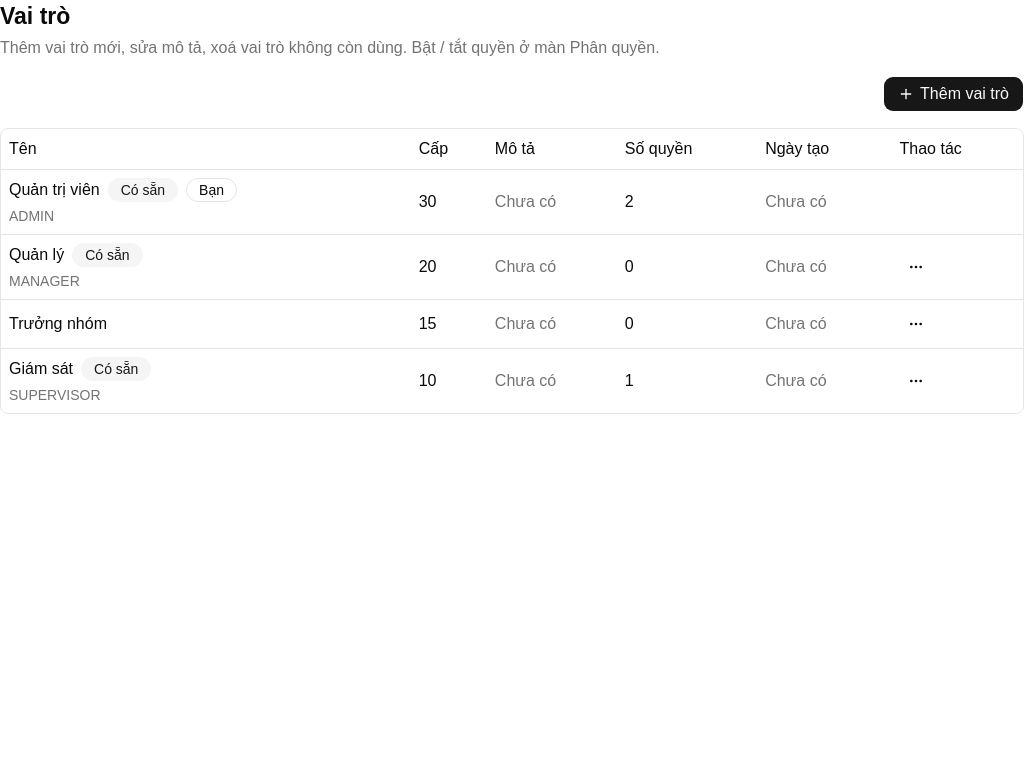
RolesPage › Sửa mô tả mở sheet của đúng vai trò; Xoá mở hộp xác nhận của đúng vai trò
Expected: the text "Trưởng nhóm" is shown, [9,312,107,336]
Click the button named "Thao tác với Trưởng nhóm" at (916, 324), box [900,308,932,340]
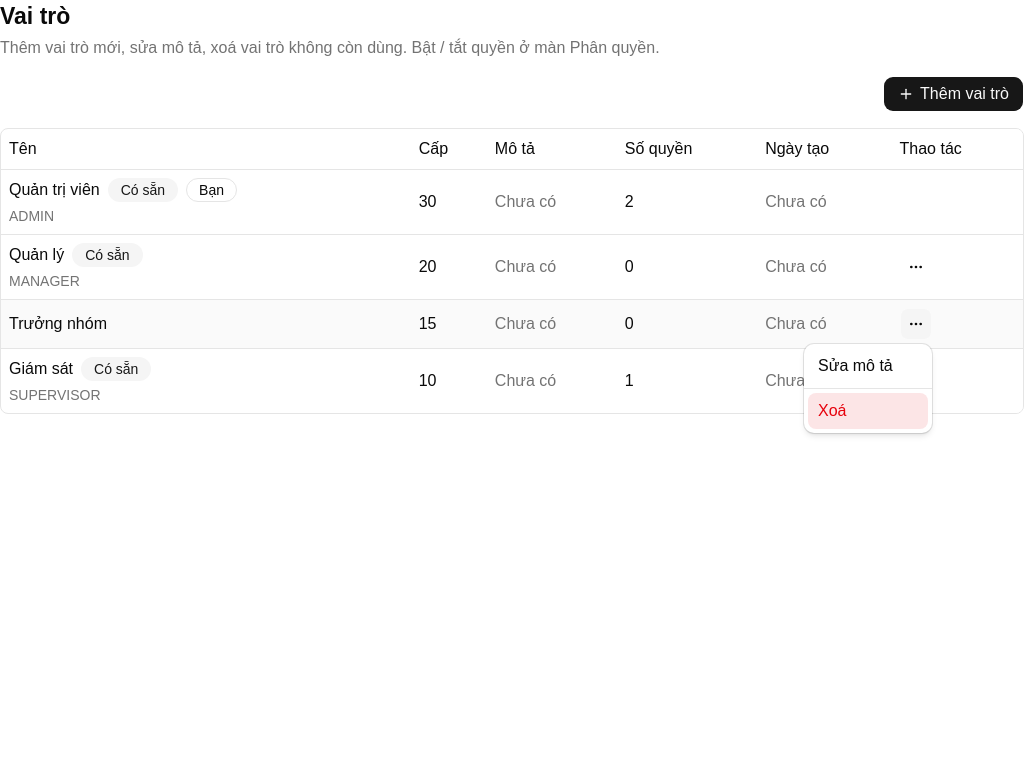
Click the menu item "Sửa mô tả" at (855, 366), box [818,357,893,374]
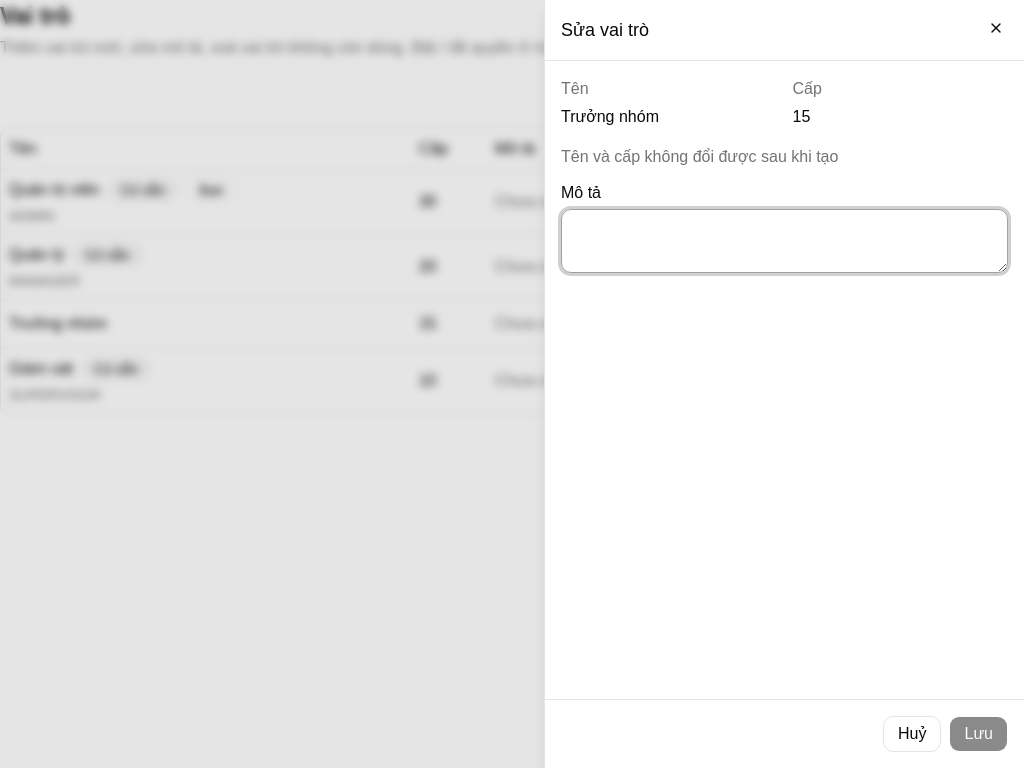
Now the text "Trưởng nhóm" is shown, box [561,108,659,125]
Press Escape
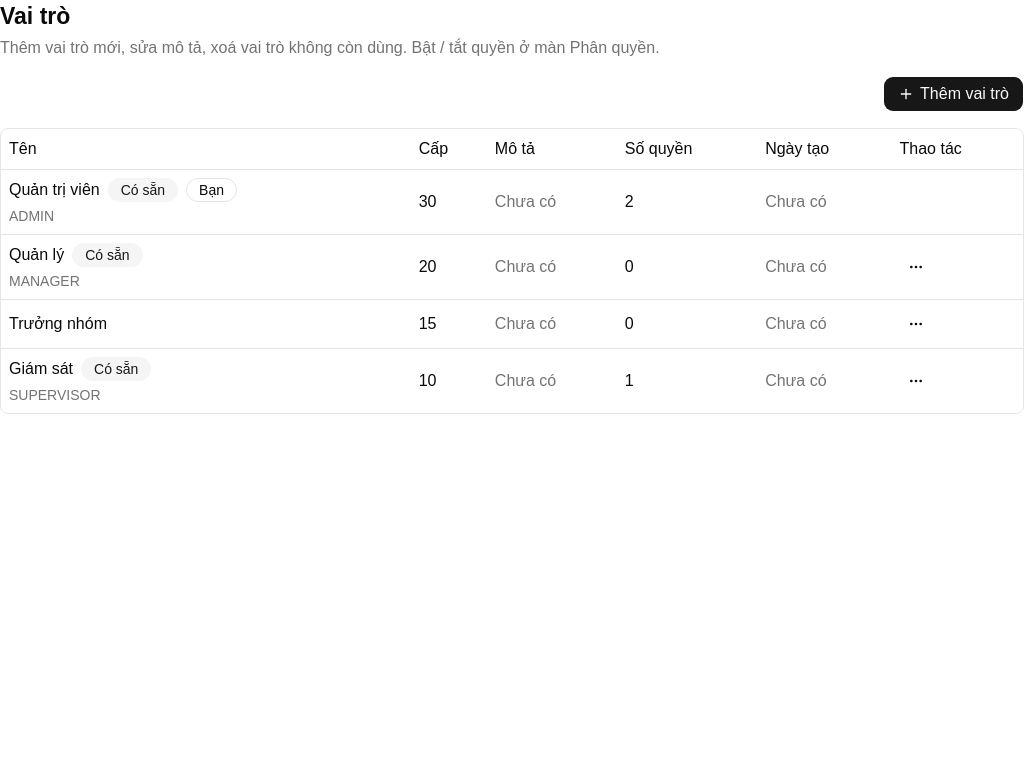
Now the dialog is gone
Click the button named "Thao tác với Trưởng nhóm" at (916, 324), box [900,308,932,340]
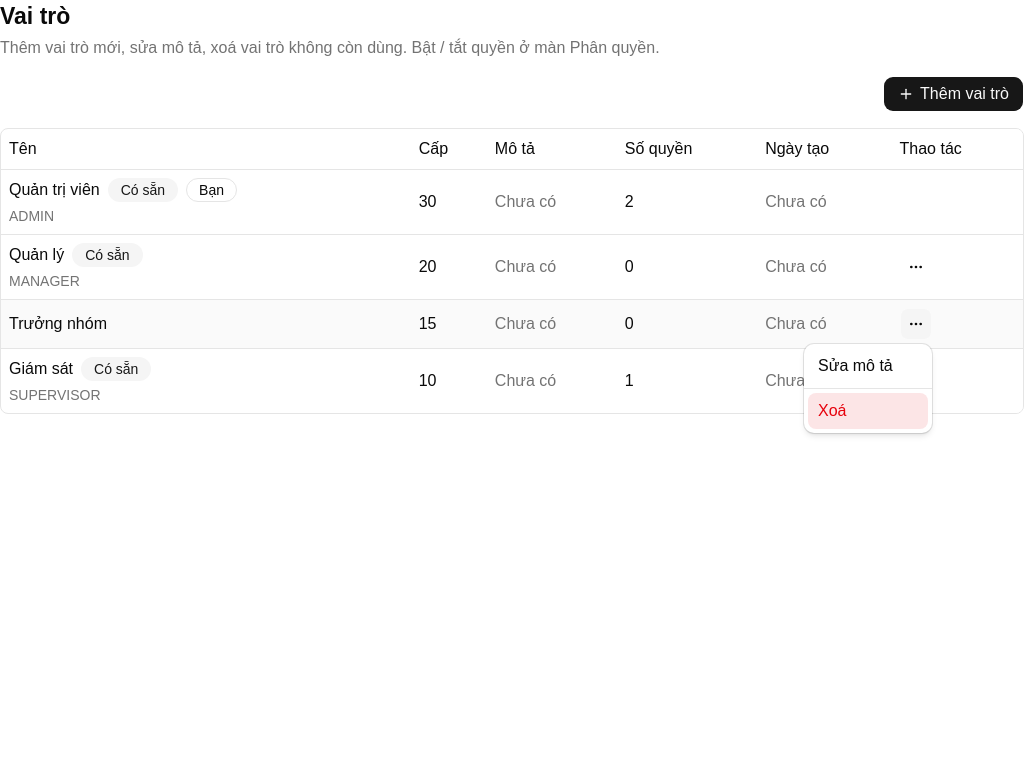
Click the menu item "Xoá" at (868, 411), box [808,393,928,429]
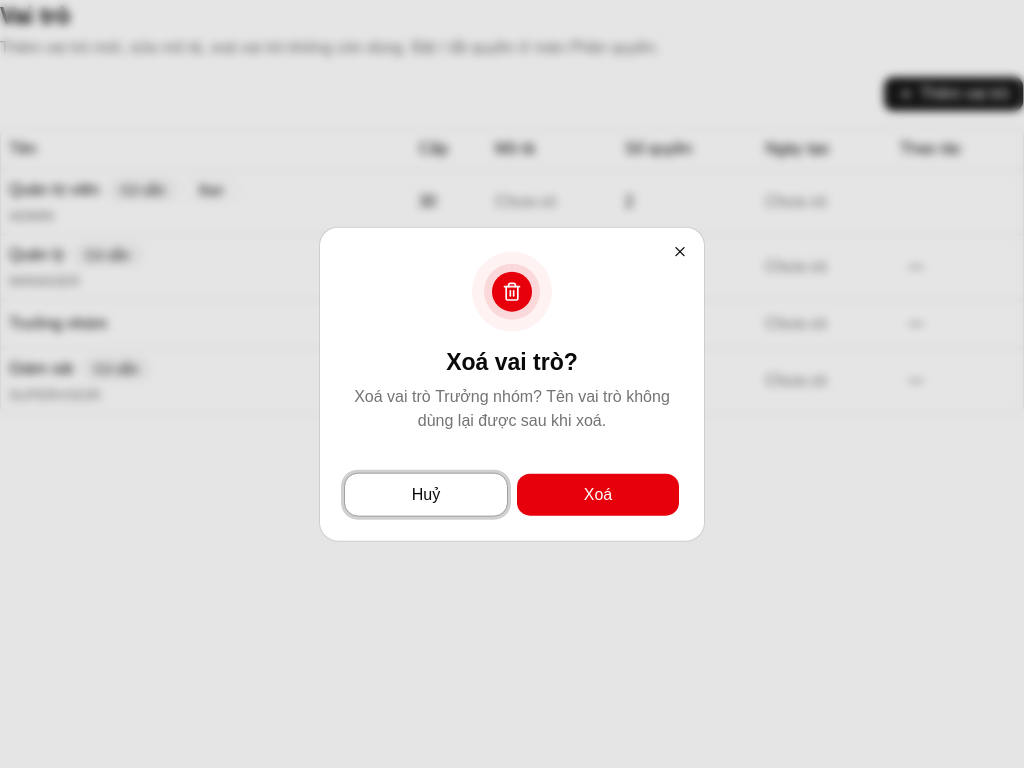
Now the dialog shows "Trưởng nhóm", box [435,387,533,404]
